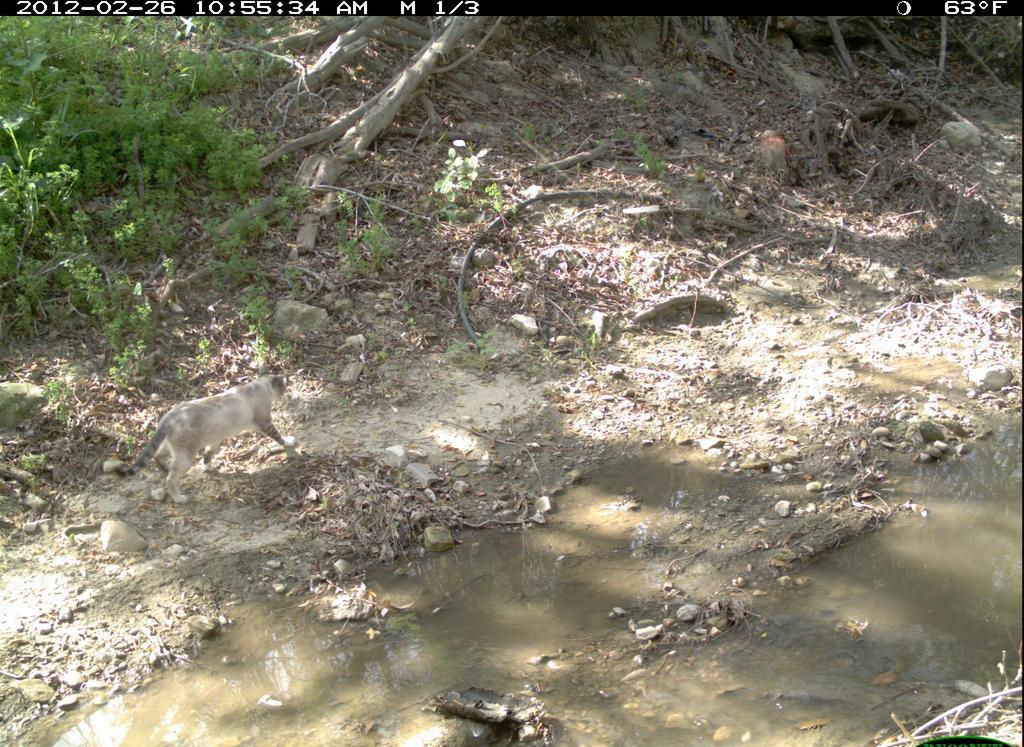cat: (107, 367, 313, 515)
